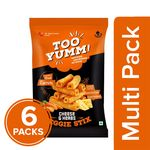plastic: (32, 19, 103, 101)
tooyumm: (47, 36, 90, 60)
wrapper: (49, 19, 108, 136)
